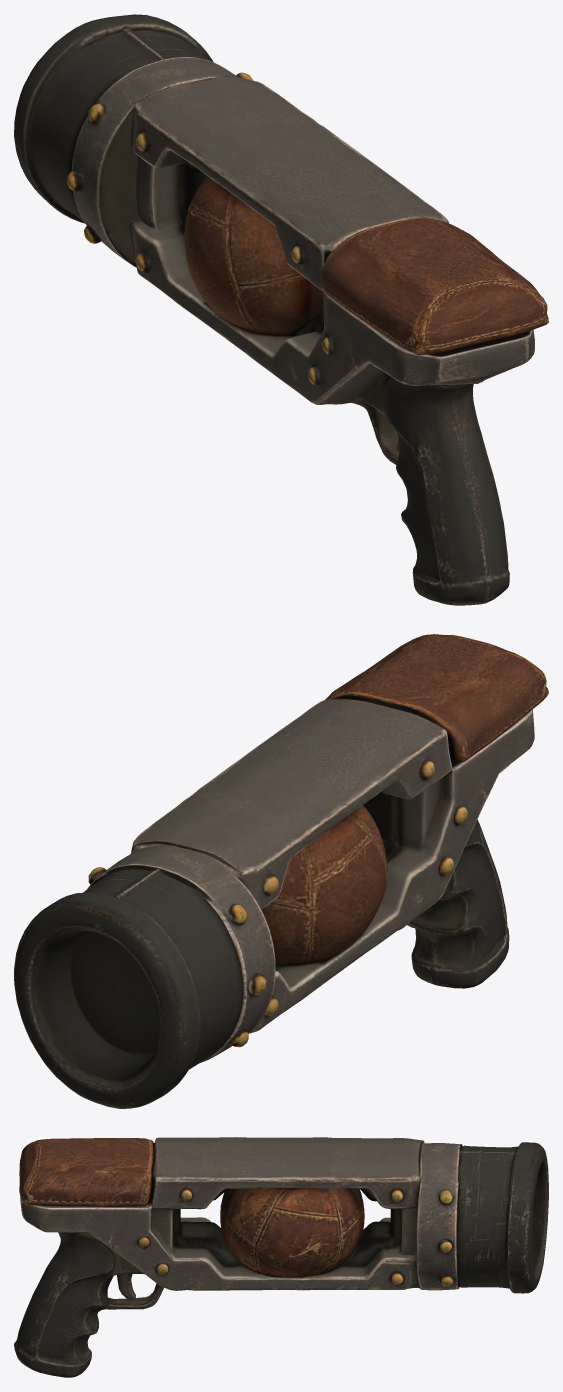
The model's file is weapon-med-ball.glb.
The picture shows the model from 3 angles, top to bottom: view 1: azimuth 30°, elevation 25°; view 2: azimuth 150°, elevation 25°; view 3: azimuth 270°, elevation 25°; orthographic projection. The views are drawn at different scales.
Parts seen in each view (by area): view 1: tripo_node_41ce0fb3-e2ae-4359-9638-cc5815607cd9; view 2: tripo_node_41ce0fb3-e2ae-4359-9638-cc5815607cd9; view 3: tripo_node_41ce0fb3-e2ae-4359-9638-cc5815607cd9.
Part boxes in pixels (box(x1,y1,x2,y2)): tripo_node_41ce0fb3-e2ae-4359-9638-cc5815607cd9: box(14, 14, 548, 605); tripo_node_41ce0fb3-e2ae-4359-9638-cc5815607cd9: box(14, 634, 548, 1108); tripo_node_41ce0fb3-e2ae-4359-9638-cc5815607cd9: box(14, 1137, 548, 1377).
Bounding box in the file's own units: 0.1753 × 0.2733 × 0.6.
1 material, 1 textured.
